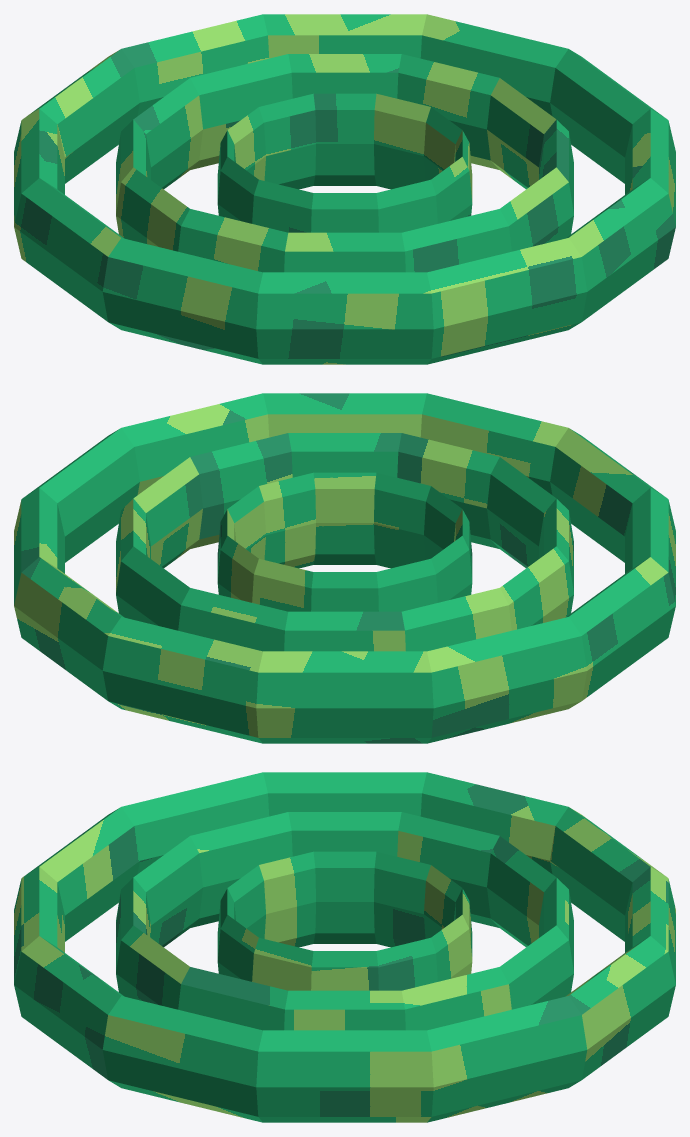
File: BossProjectile.fbx
3 renders of one model, top to bottom at view 1: azimuth 30°, elevation 25°; view 2: azimuth 150°, elevation 25°; view 3: azimuth 270°, elevation 25°, orthographic.
Parts seen in each view (by area): view 1: torus; view 2: torus; view 3: torus.
Part boxes in pixels (<box>): torus: <box>14,14,675,364</box>; torus: <box>14,393,675,743</box>; torus: <box>14,772,675,1122</box>.
Bounding box in the file's own units: 81.25 × 12.5 × 81.25.
1 material, 1 textured.
